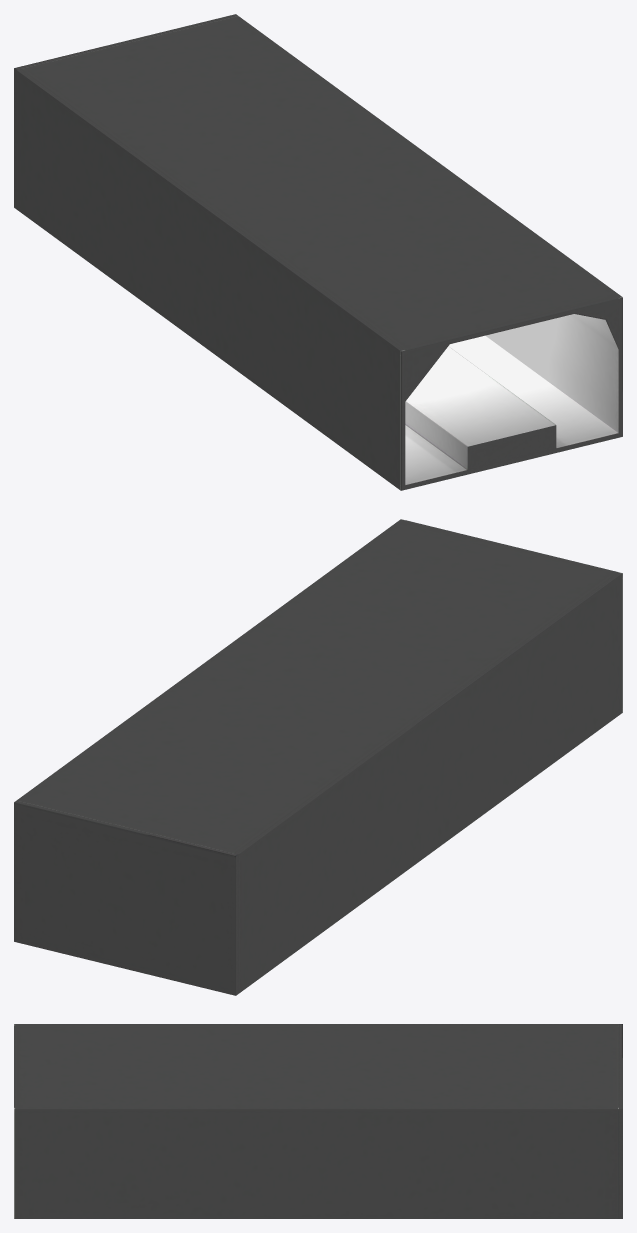
Rendered from RoomLight.glb.
3 views of the same model, one above another, from view 1: azimuth 30°, elevation 25°; view 2: azimuth 150°, elevation 25°; view 3: azimuth 270°, elevation 25° (orthographic). The views are drawn at different scales.
Visible parts, largest first — view 1: Space; view 2: Space; view 3: Space.
Part boxes in pixels (box(x1,y1,x2,y2)): Space: box(14, 14, 622, 490); Space: box(14, 519, 622, 995); Space: box(14, 1024, 622, 1218).
Bounding box in the file's own units: 50 × 30 × 151.
Materials: 1 (1 with a texture image).
